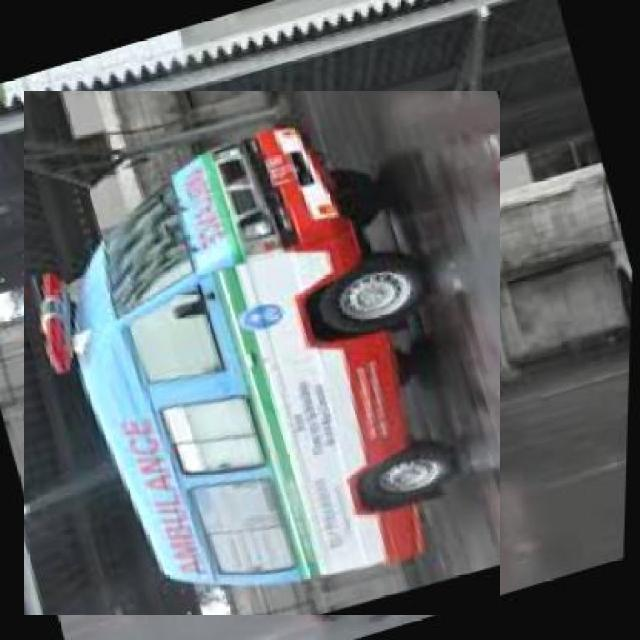emergency-vehicle: (12, 103, 512, 603)
